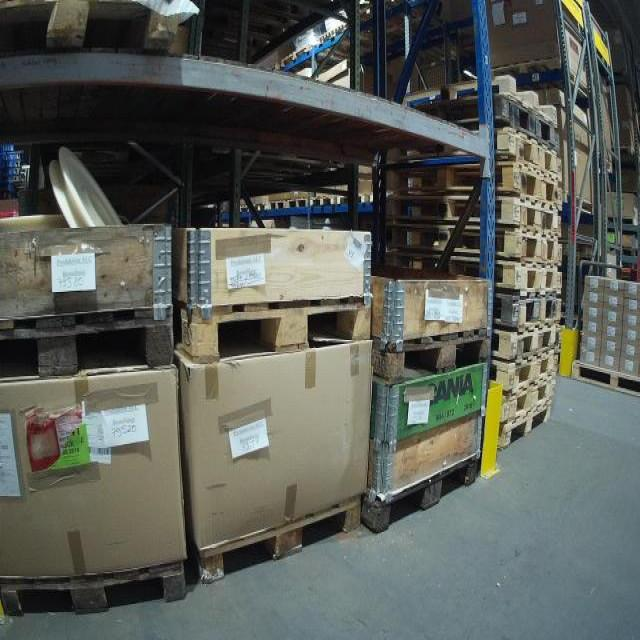pallet: (194, 490, 365, 587), (182, 285, 375, 368), (3, 299, 180, 388), (2, 546, 188, 617), (2, 2, 199, 61), (365, 444, 486, 540), (395, 165, 565, 209), (388, 197, 568, 237), (372, 330, 487, 386), (394, 225, 563, 263), (492, 127, 564, 178), (496, 97, 564, 144), (573, 355, 640, 399), (491, 325, 560, 361), (495, 261, 560, 297), (500, 407, 554, 449), (491, 297, 560, 329), (494, 353, 559, 385), (502, 381, 556, 411), (314, 23, 355, 45), (310, 192, 338, 212), (338, 194, 375, 209), (292, 44, 313, 68), (286, 197, 309, 214), (249, 201, 270, 218), (280, 54, 292, 74), (269, 201, 286, 215)
